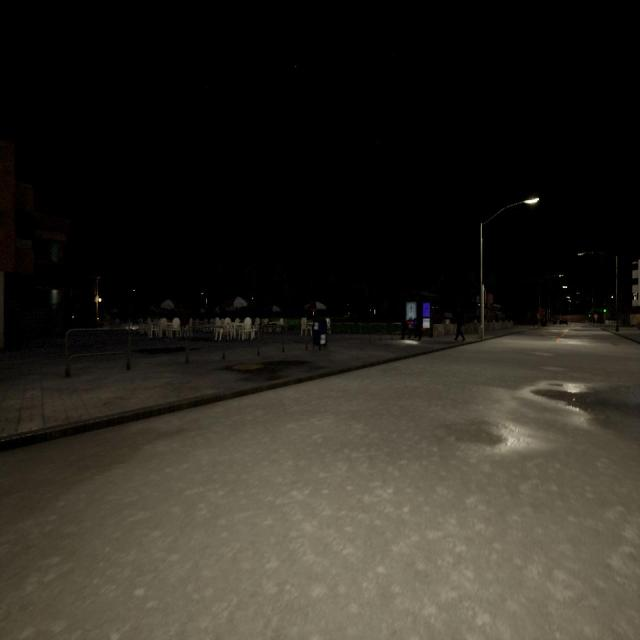Pedestrian: (455, 307, 465, 340)
Traffic_Signs: (594, 314, 598, 319)
Vehicle: (559, 318, 568, 326)
traffic_light: (484, 290, 486, 304), (604, 304, 606, 314), (588, 313, 590, 317)
